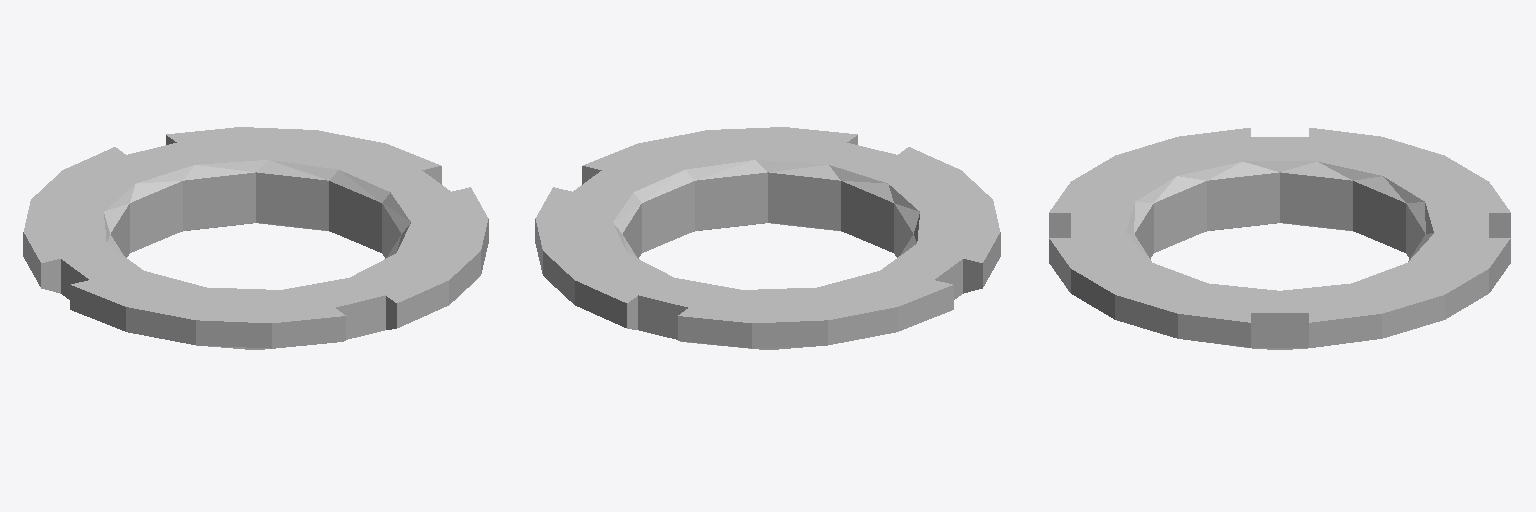
Rendered from 69. Гайка стопорная.obj.
3 views of the same model, side by side, from view 1: azimuth 30°, elevation 25°; view 2: azimuth 150°, elevation 25°; view 3: azimuth 270°, elevation 25° (orthographic).
Visible parts, largest first — view 1: Твердое тело1; view 2: Твердое тело1; view 3: Твердое тело1.
Part boxes in pixels (left/top/right/bottom): Твердое тело1: left=23, top=127, right=488, bottom=349; Твердое тело1: left=535, top=127, right=1000, bottom=349; Твердое тело1: left=1049, top=128, right=1510, bottom=349.
Bounding box in the file's own units: 47.62 × 7 × 47.62.